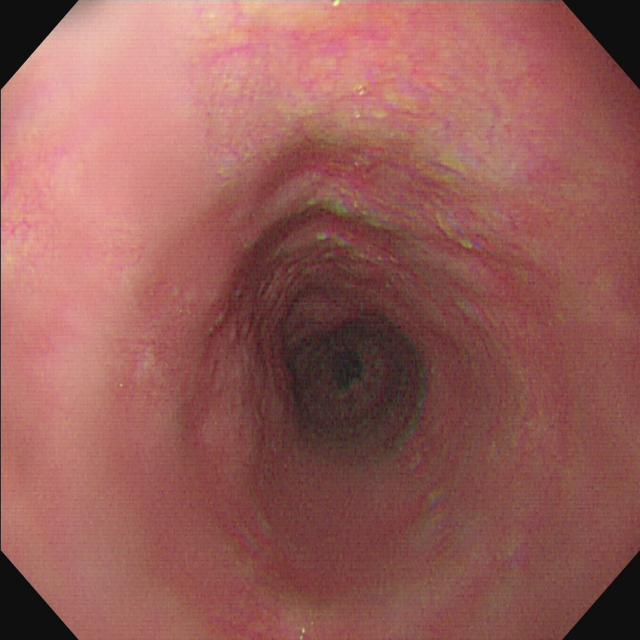E: (266, 312, 420, 453)
